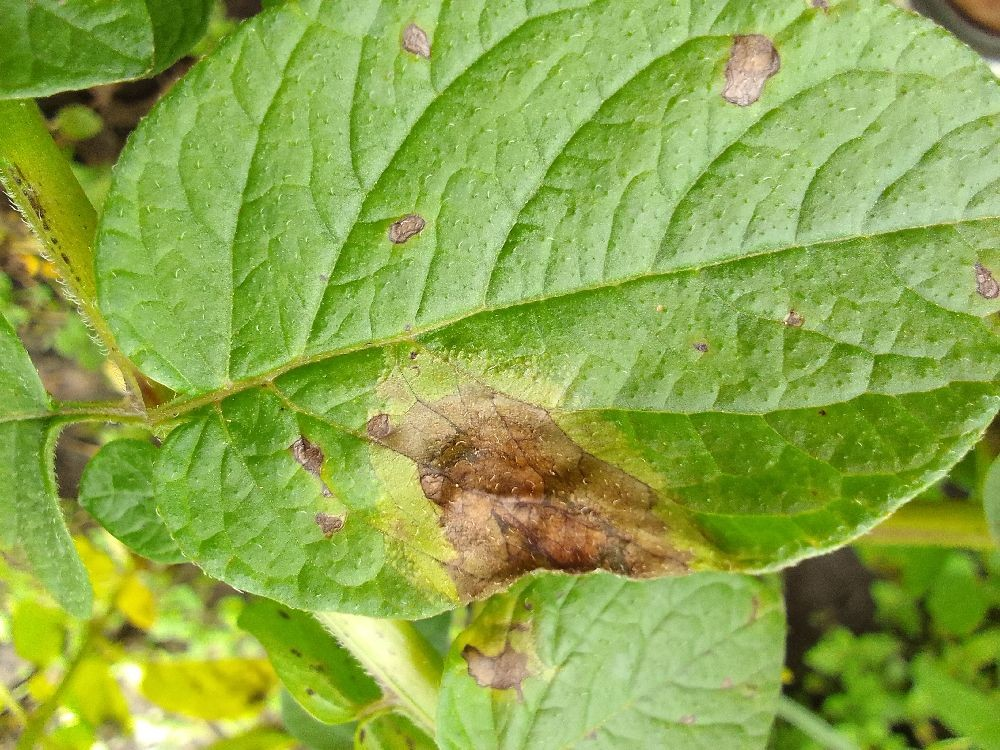late_blight: (348, 366, 756, 714), (0, 155, 199, 451), (758, 524, 981, 733), (15, 33, 218, 192)
